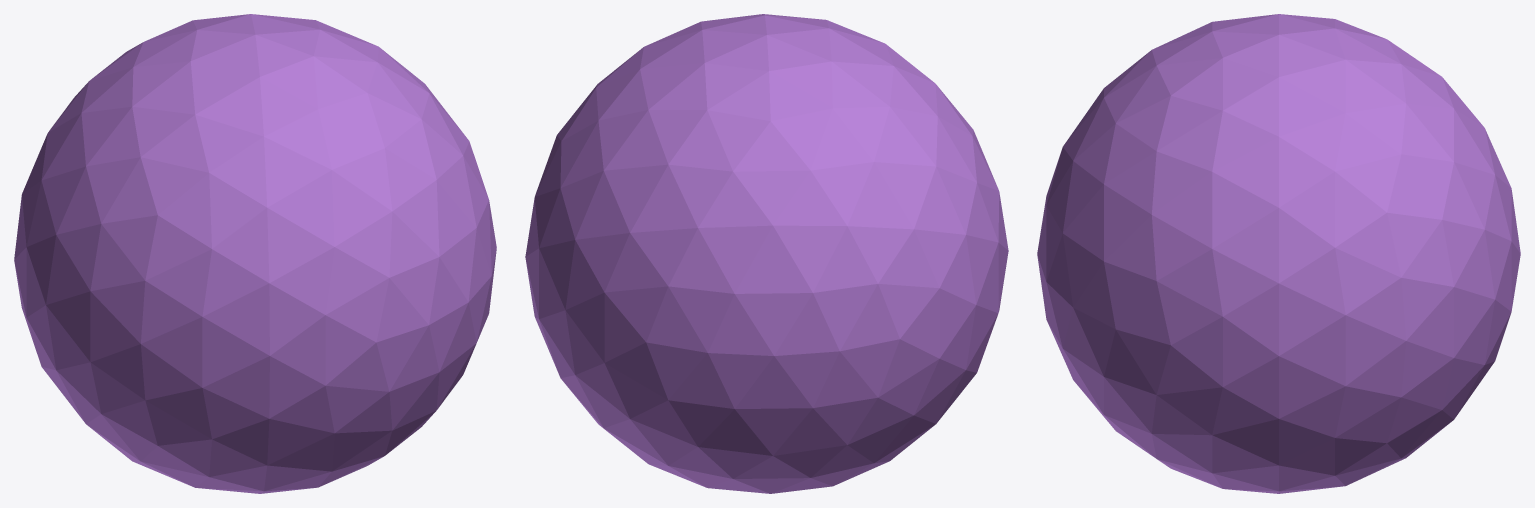
Rendered from potassium.fbx.
3 renders of one model, left to right at view 1: azimuth 30°, elevation 25°; view 2: azimuth 150°, elevation 25°; view 3: azimuth 270°, elevation 25°, orthographic.
Parts seen in each view (by area): view 1: Shape_IndexedFaceSet; view 2: Shape_IndexedFaceSet; view 3: Shape_IndexedFaceSet.
Boxes of the visible parts, x1,y1,x2,y2 form: Shape_IndexedFaceSet: [14, 14, 496, 493]; Shape_IndexedFaceSet: [525, 14, 1008, 493]; Shape_IndexedFaceSet: [1037, 14, 1520, 493].
Bounding box in the file's own units: 1264 × 1264 × 1264.
